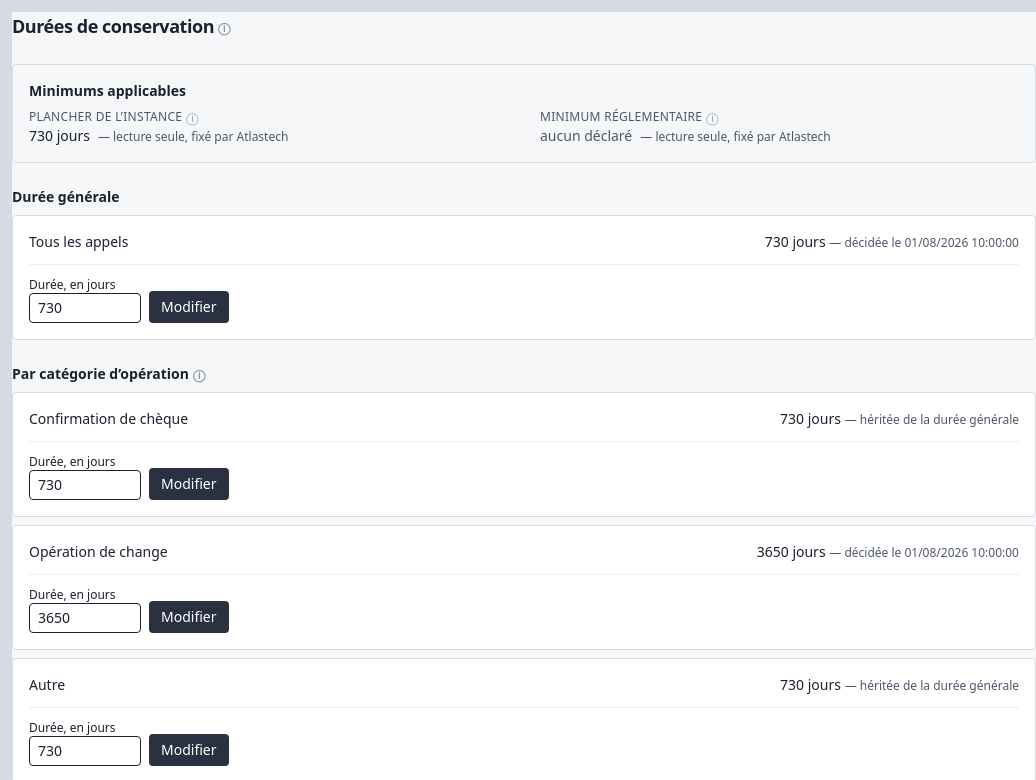
it: écran des durées de conservation › ne demande un motif que sous le plancher de l’instance
expect the field labelled "Motif de dérogation" is not shown: met
Replace the text in the number field labelled "Durée, en jours" below "Tous les appels" with "365" at x=85, y=308, box [29,293,141,323]
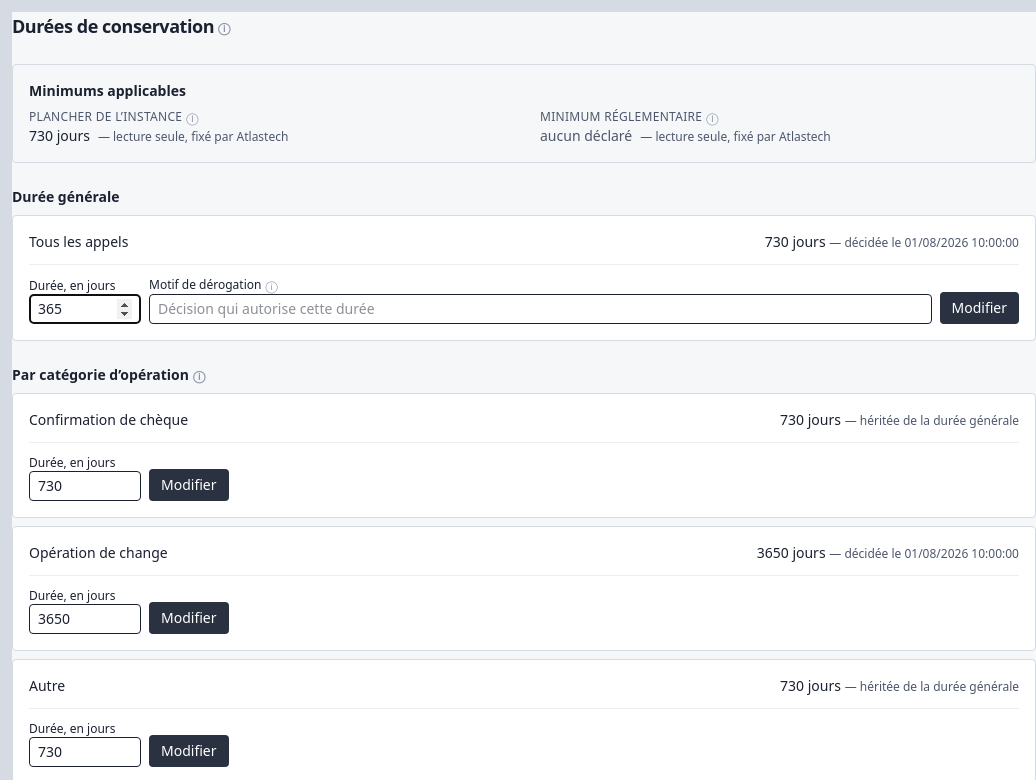
expect the field labelled "Motif de dérogationⓘ" is shown: met, box [149,294,932,324]
